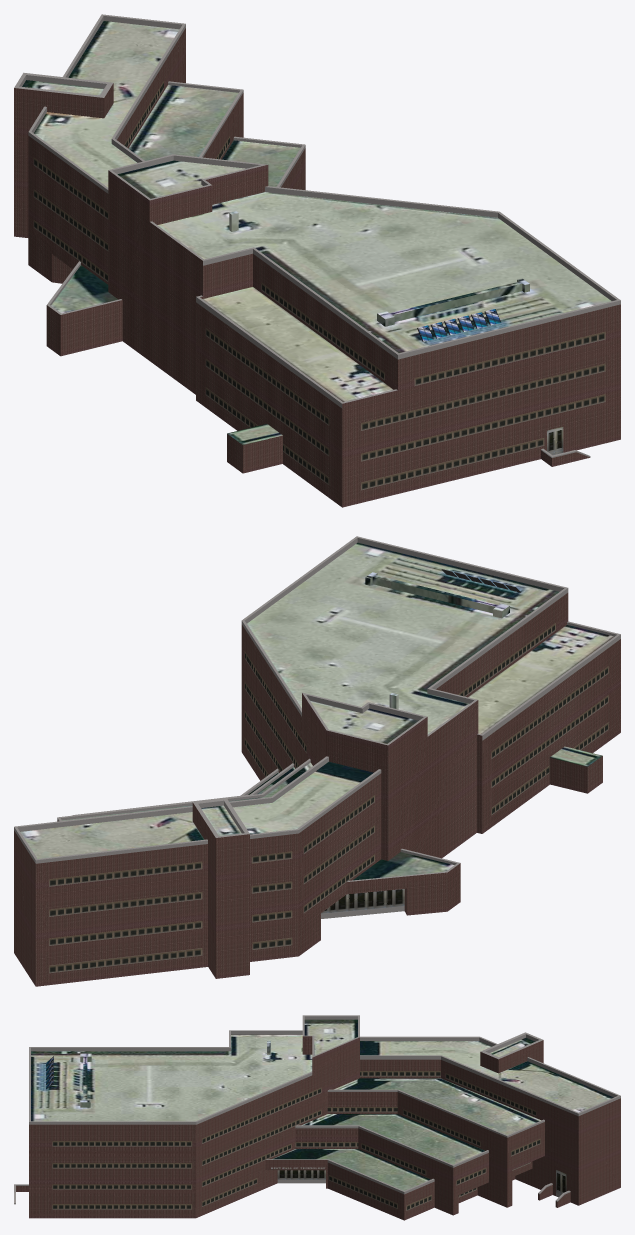
The model's file is KNOY.fbx.
3 renders of one model, top to bottom at view 1: azimuth 30°, elevation 25°; view 2: azimuth 150°, elevation 25°; view 3: azimuth 270°, elevation 25°, orthographic. The views are drawn at different scales.
Visible parts, largest first — view 1: Model, taiyang1; view 2: Model; view 3: Model.
Part boxes in pixels (x1=…): Model: x1=14, y1=14, x2=620, y2=507; taiyang1: x1=417, y1=309, x2=500, y2=341; Model: x1=14, y1=536, x2=620, y2=986; Model: x1=14, y1=1015, x2=620, y2=1220.
Size of the model in its own units: 1682 by 754 by 3743.
